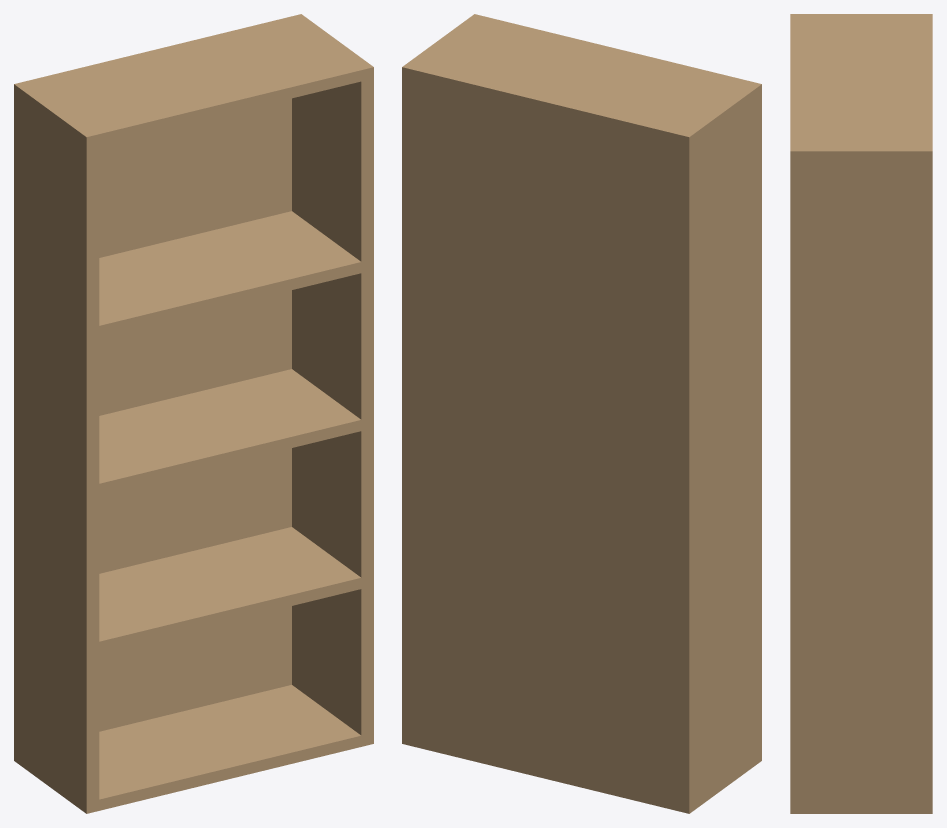
File: bookshelf.glb
3 views of the same model, side by side, from view 1: azimuth 30°, elevation 25°; view 2: azimuth 150°, elevation 25°; view 3: azimuth 270°, elevation 25° (orthographic). The views are drawn at different scales.
Size of the model in its own units: 0.8 by 1.8 by 0.35.
